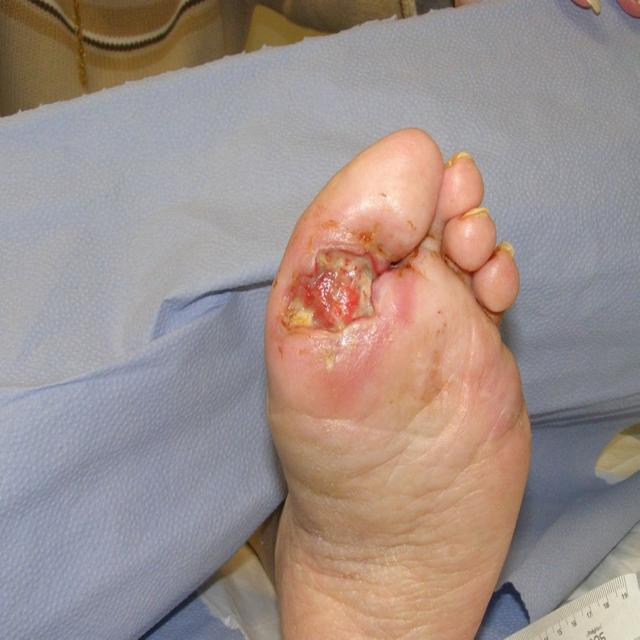wound: (280, 243, 383, 335)
